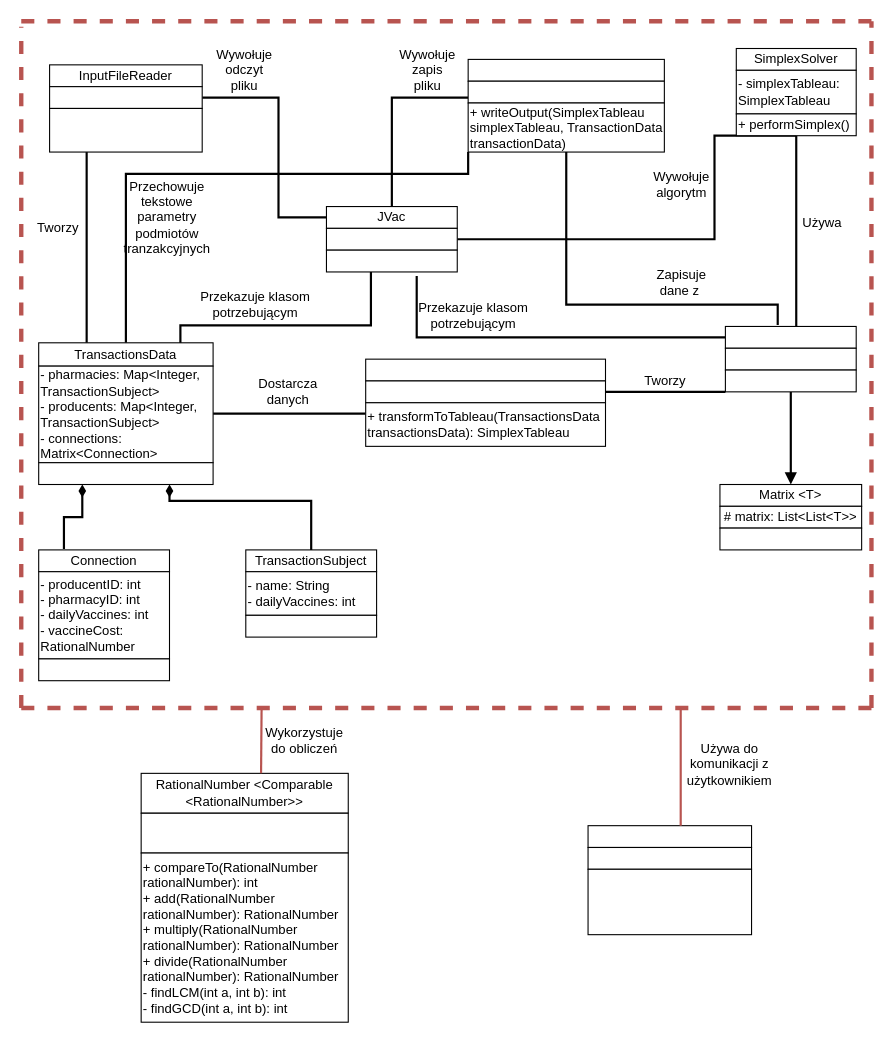
Some shapes in this 893 by 1041 pixel diagram are drawn without their labels. The box of each missing label's shape, as (x1, y1, x2, y2) in pixels:
+ logException(Exception: exception) + logMessage(String message): (587, 868, 752, 935)
+ main(String[] args): (325, 249, 457, 272)
+ readInput(String path): TransactionsData: (49, 107, 202, 152)
- numerator: int - denominator: int: (140, 812, 348, 853)
DataToTableauTransformer: (365, 358, 605, 381)
MessageCenter: (587, 825, 752, 847)
OutputFileWriter: (467, 58, 664, 81)
SimplexTableau: (724, 325, 856, 348)
